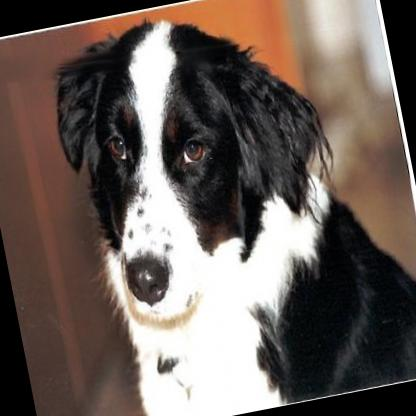collie: (38, 0, 416, 416)
